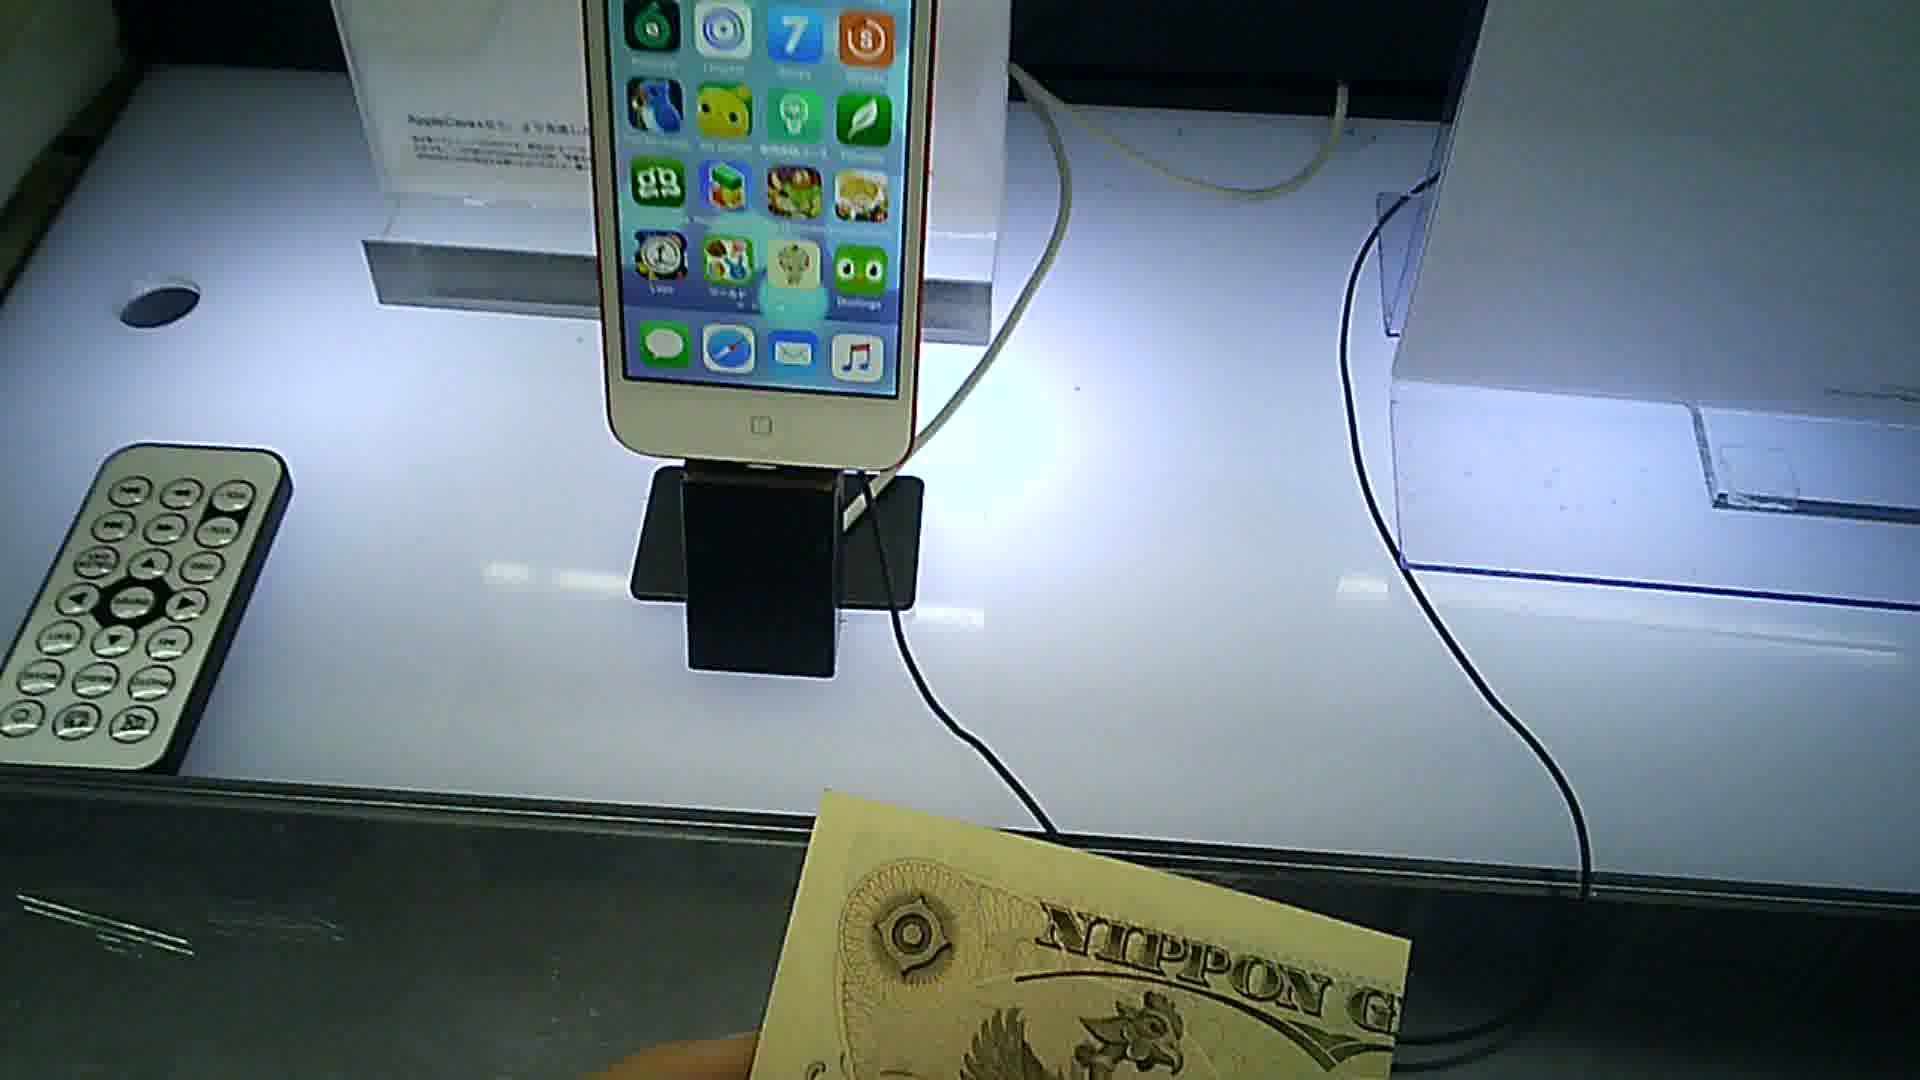10,000 Yen: (723, 779, 1396, 1079)
